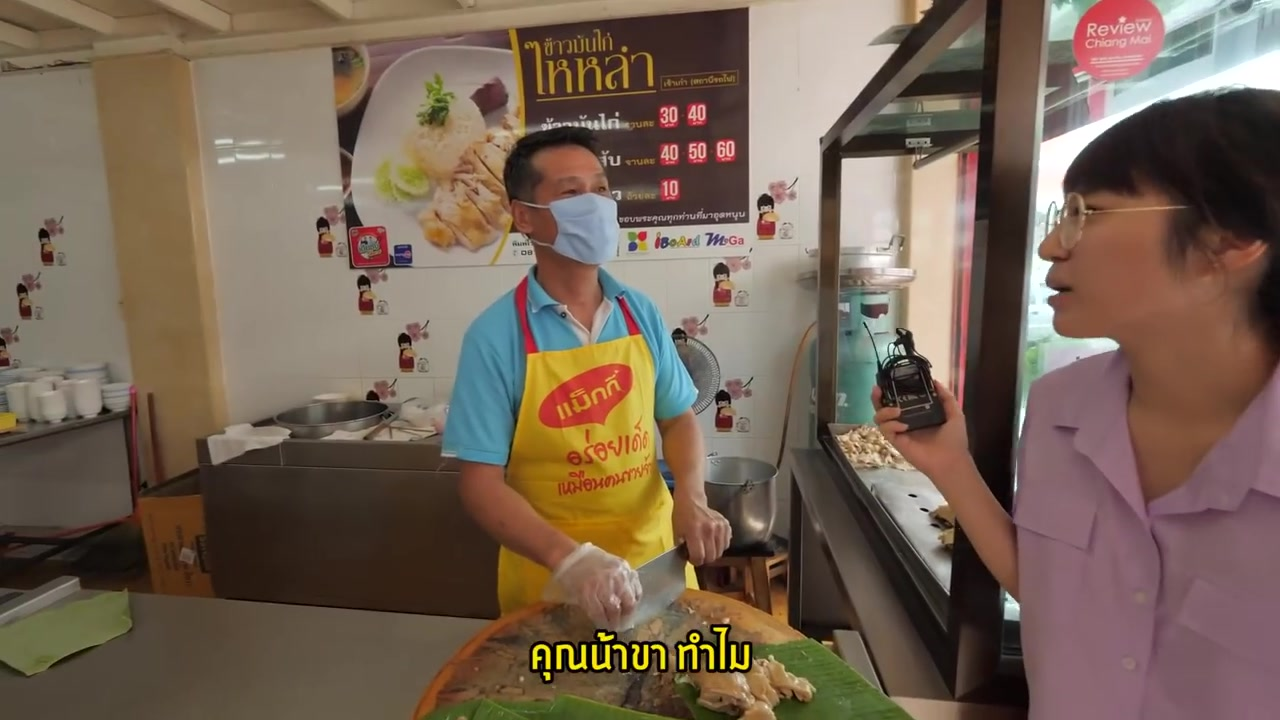text-label: (524, 618, 753, 685)
